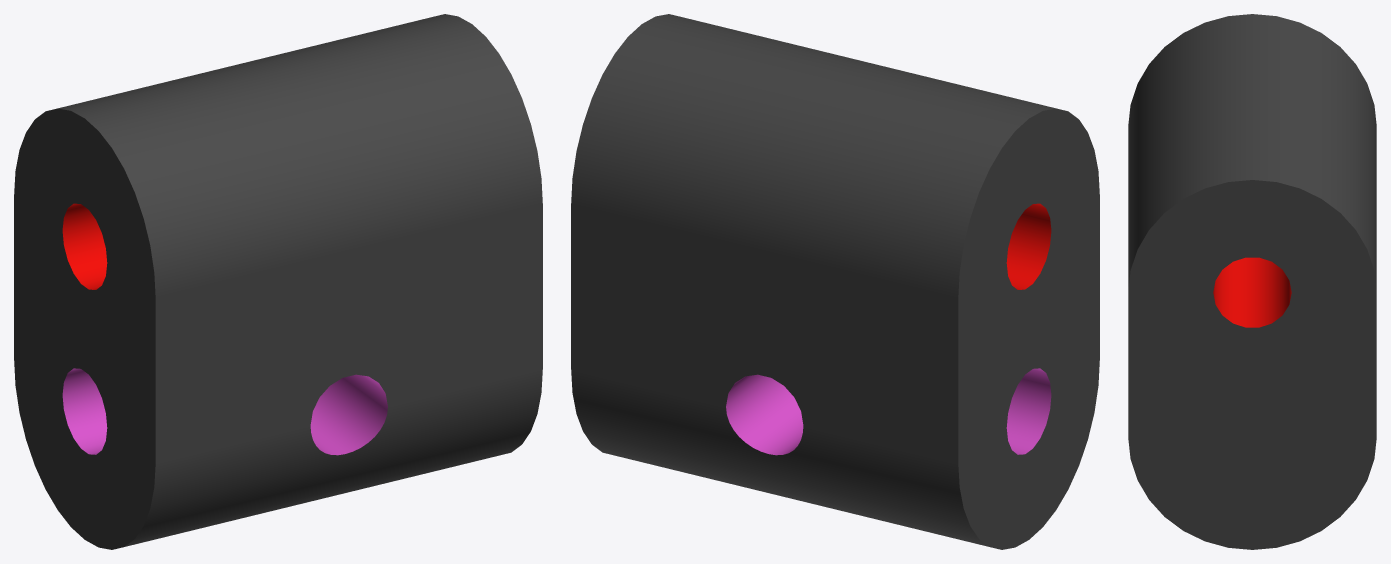
The model's file is 220129_SLIDE.fbx.
3 renders of one model, left to right at view 1: azimuth 30°, elevation 25°; view 2: azimuth 150°, elevation 25°; view 3: azimuth 270°, elevation 25°, orthographic. The views are drawn at different scales.
Visible parts, largest first — view 1: 220129_SLIDE; view 2: 220129_SLIDE; view 3: 220129_SLIDE.
Boxes of the visible parts, box(x1,y1,x2,y2) form: 220129_SLIDE: box(14, 14, 542, 549); 220129_SLIDE: box(571, 14, 1099, 549); 220129_SLIDE: box(1128, 14, 1376, 549).
Size of the model in its own units: 1.5 by 0.95 by 1.56.
